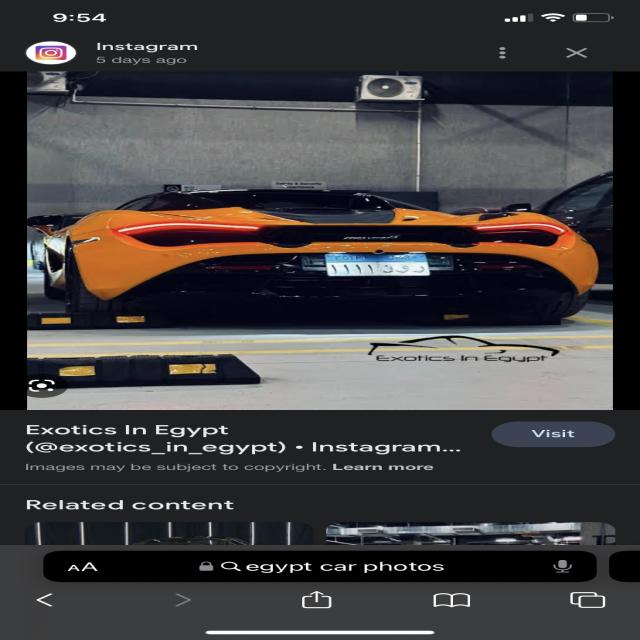License Plate: (325, 254, 430, 276)
